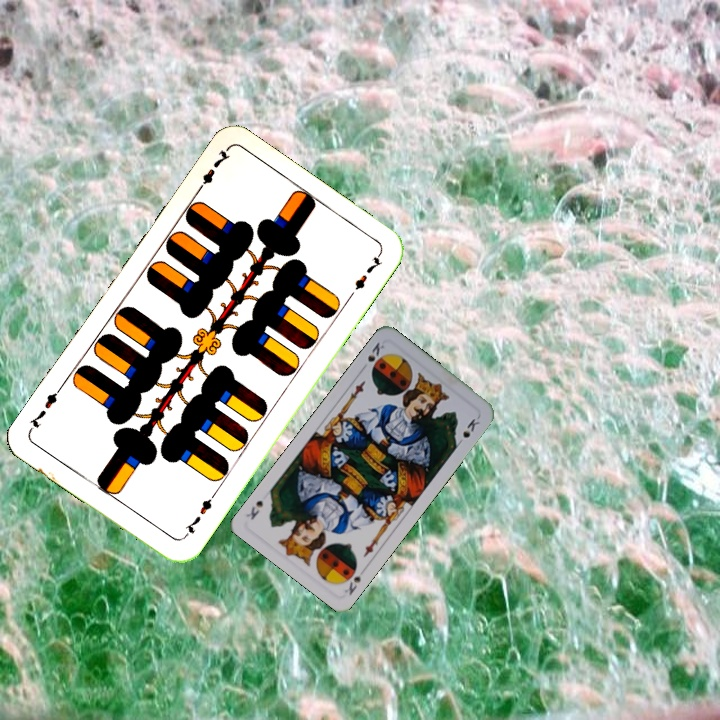E7: (191, 145, 233, 197), (179, 489, 219, 541)
SK: (339, 561, 368, 598), (363, 338, 387, 364)
